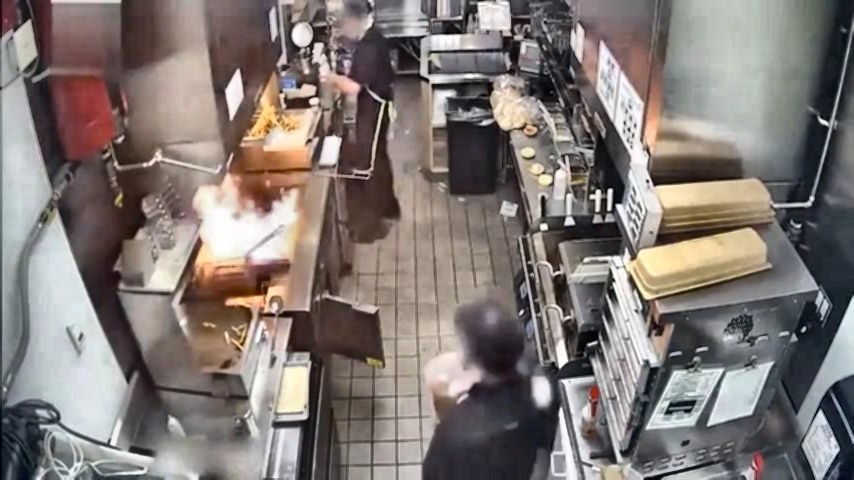fire: (187, 172, 304, 275)
